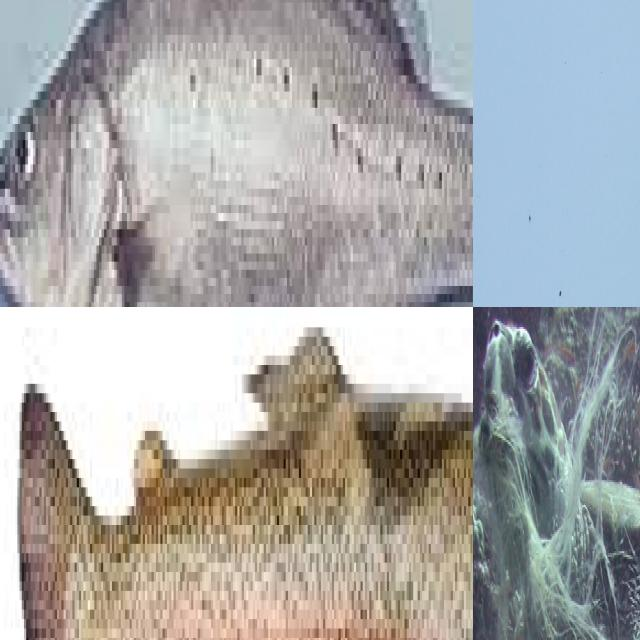fish: (0, 0, 473, 307), (77, 308, 473, 640)
